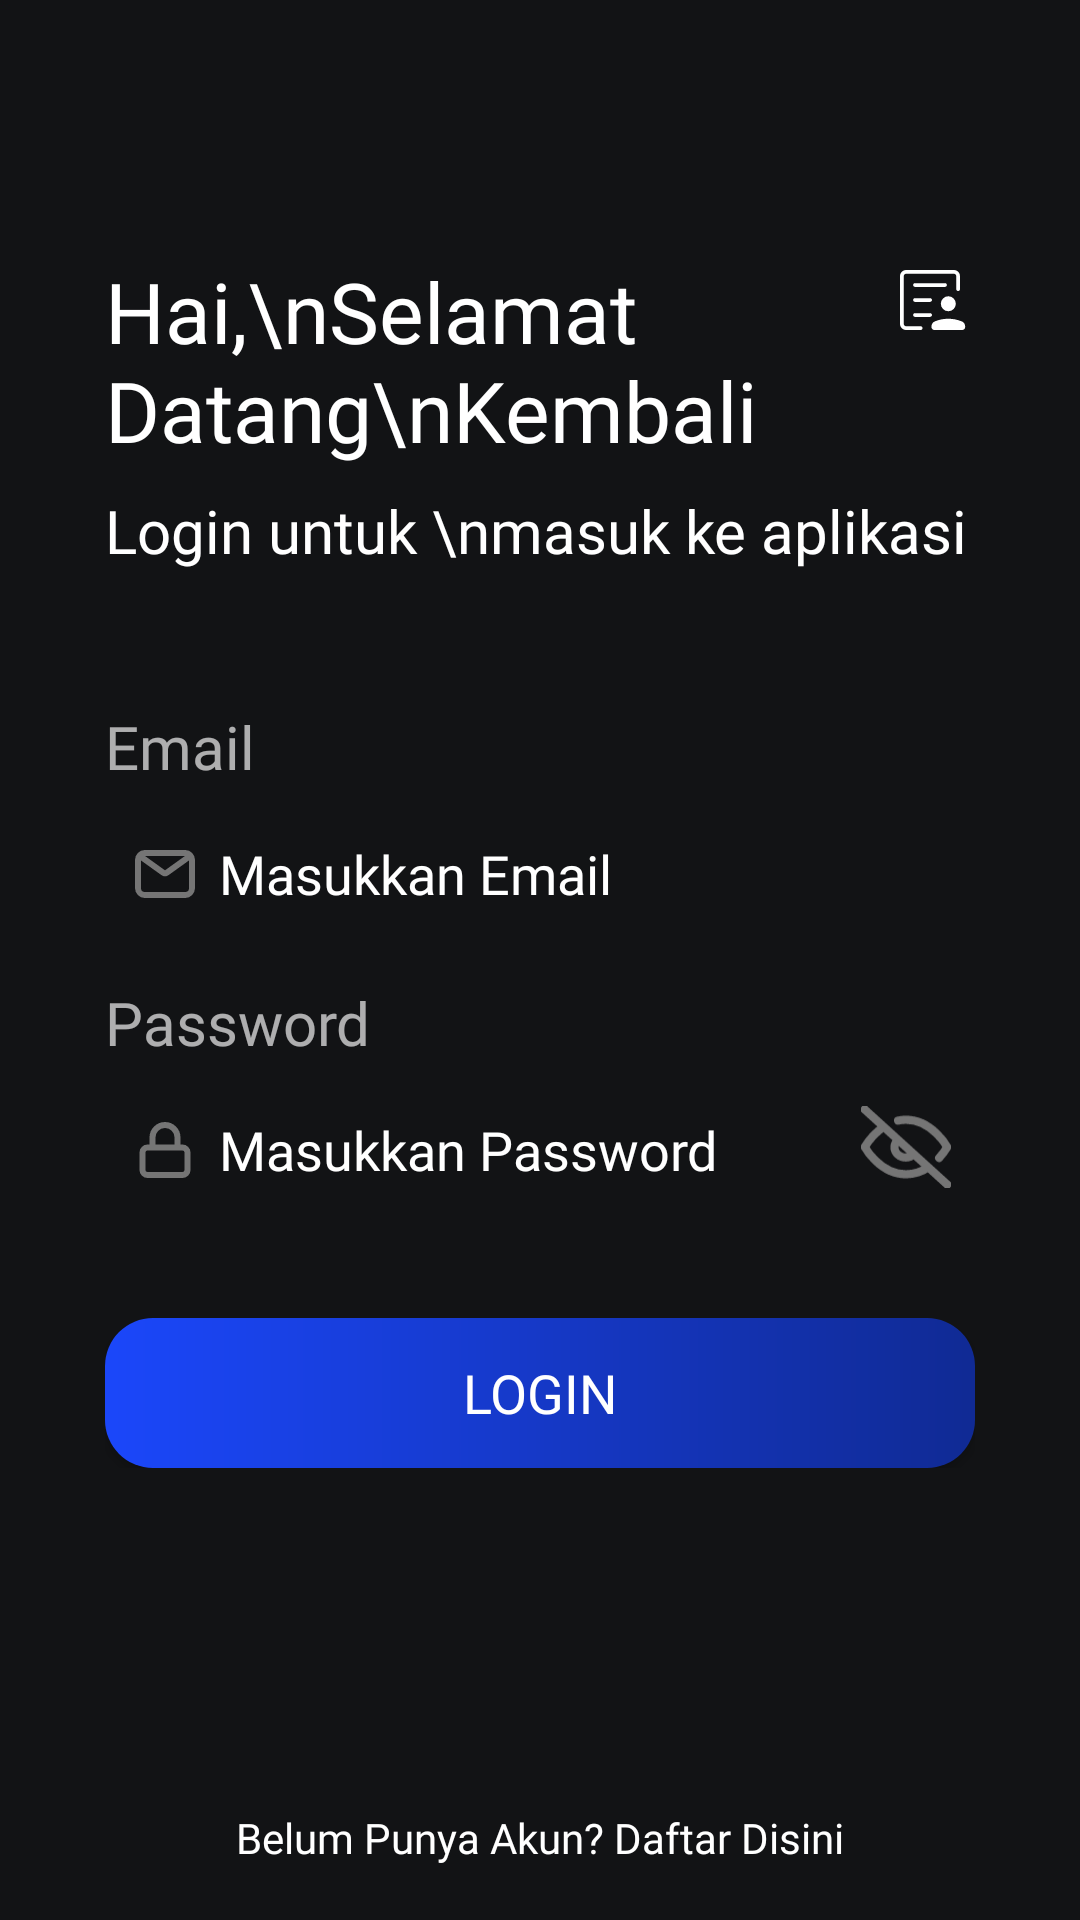

Locate icon controls on the screen. Image size 1080 x 1920, boxes as (x1,y1,x2,y2).
admin: (900,270,966,330)
eye off: (861,1106,951,1188)
